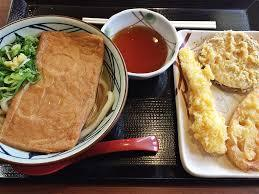kitune: (1, 19, 125, 158)
satumaimo: (205, 32, 259, 91)
